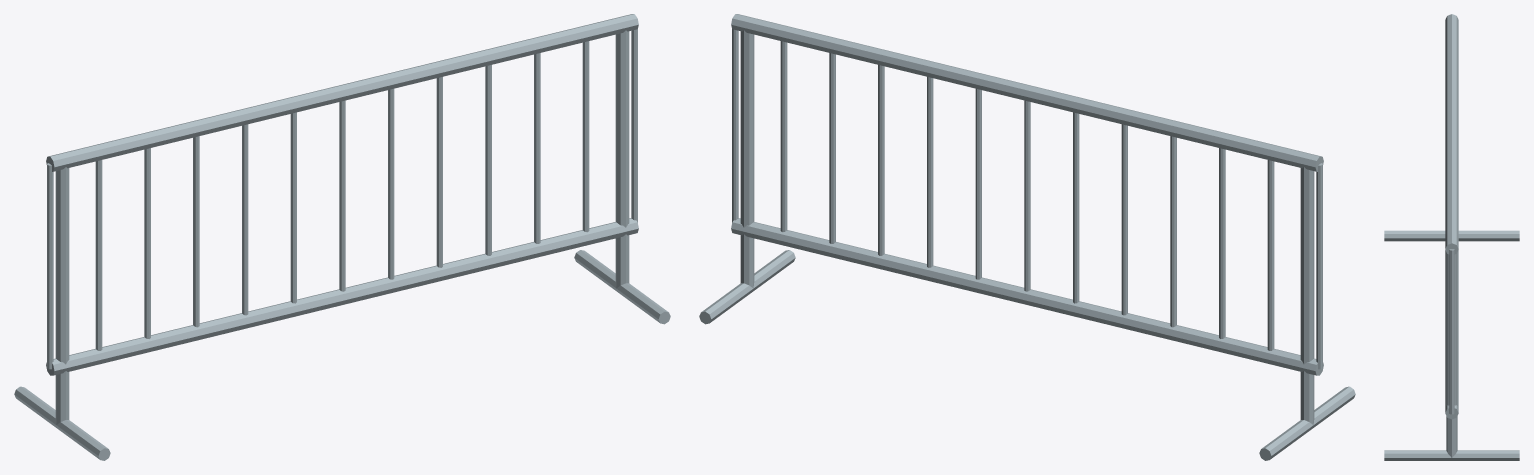
Rendered from roadevents_crowd_barrier.glb.
3 views of the same model, side by side, from view 1: azimuth 30°, elevation 25°; view 2: azimuth 150°, elevation 25°; view 3: azimuth 270°, elevation 25° (orthographic). The views are drawn at different scales.
Parts seen in each view (by area): view 1: CrowdBarrier; view 2: CrowdBarrier; view 3: CrowdBarrier.
Boxes of the visible parts, bbox=[...] form: CrowdBarrier: bbox=[14, 14, 670, 460]; CrowdBarrier: bbox=[699, 14, 1355, 460]; CrowdBarrier: bbox=[1384, 14, 1519, 460].
Size of the model in its own units: 2.42 by 1.08 by 0.6.
